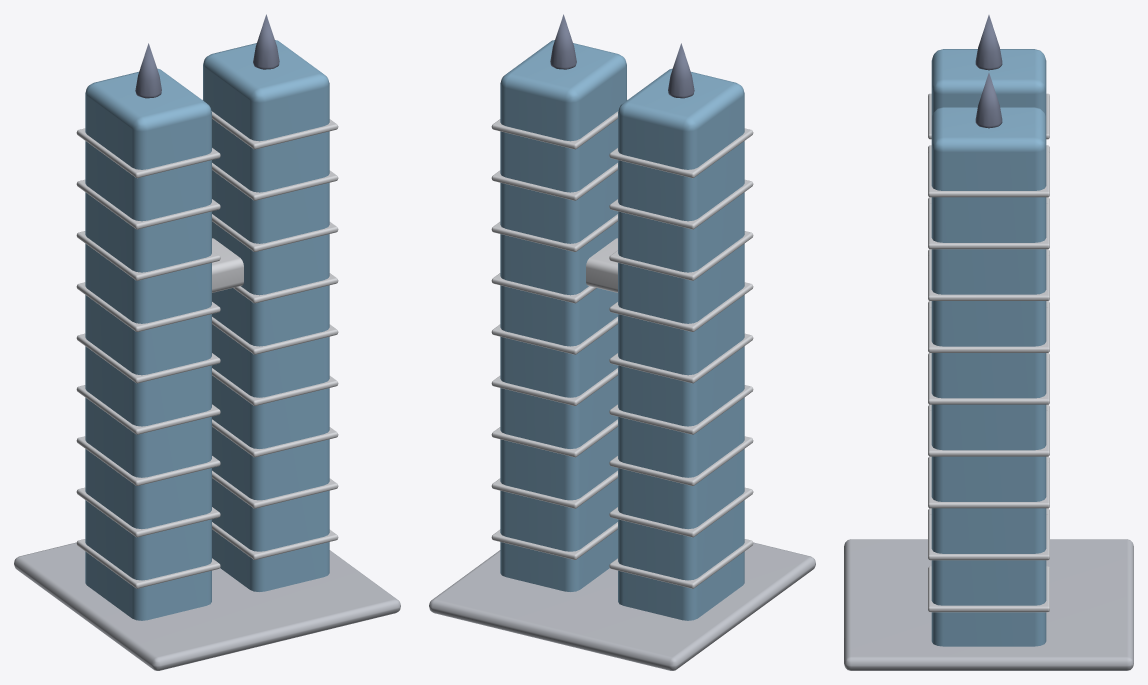
3 renders of one model, left to right at view 1: azimuth 30°, elevation 25°; view 2: azimuth 150°, elevation 25°; view 3: azimuth 270°, elevation 25°, orthographic.
Parts seen in each view (by area): view 1: Cube; view 2: Cube; view 3: Cube.
Part boxes in pixels (box(x1,y1,x2,y2)): Cube: box(14, 14, 400, 670); Cube: box(429, 14, 815, 670); Cube: box(844, 15, 1133, 670).
Size of the model in its own units: 0.76 by 1.65 by 0.76.
